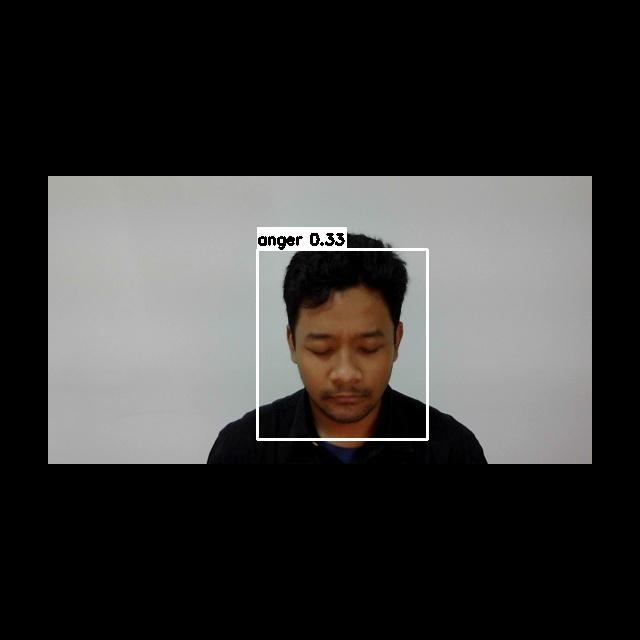Sad: (285, 319, 405, 414)
